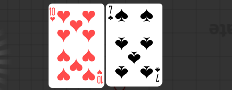10H: (50, 7, 57, 23)
7C: (154, 66, 161, 84)
